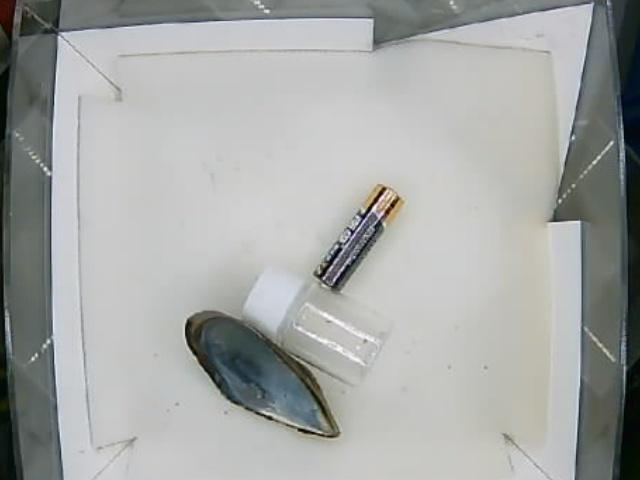Battery: (321, 182, 406, 290)
Bottle: (244, 268, 398, 385)
Shell: (184, 302, 343, 439)
